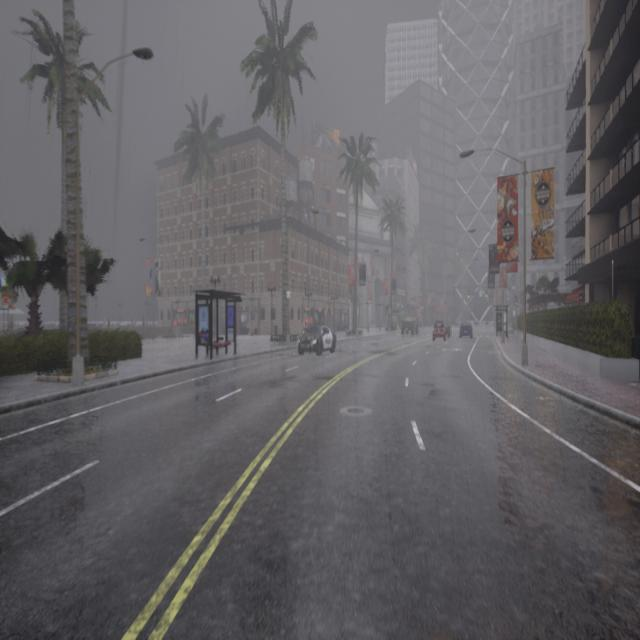9: (514, 296, 518, 307), (485, 289, 488, 299), (468, 290, 470, 298)
bien_hieu_lenh: (485, 293, 488, 298), (515, 302, 518, 306), (468, 295, 470, 298)
